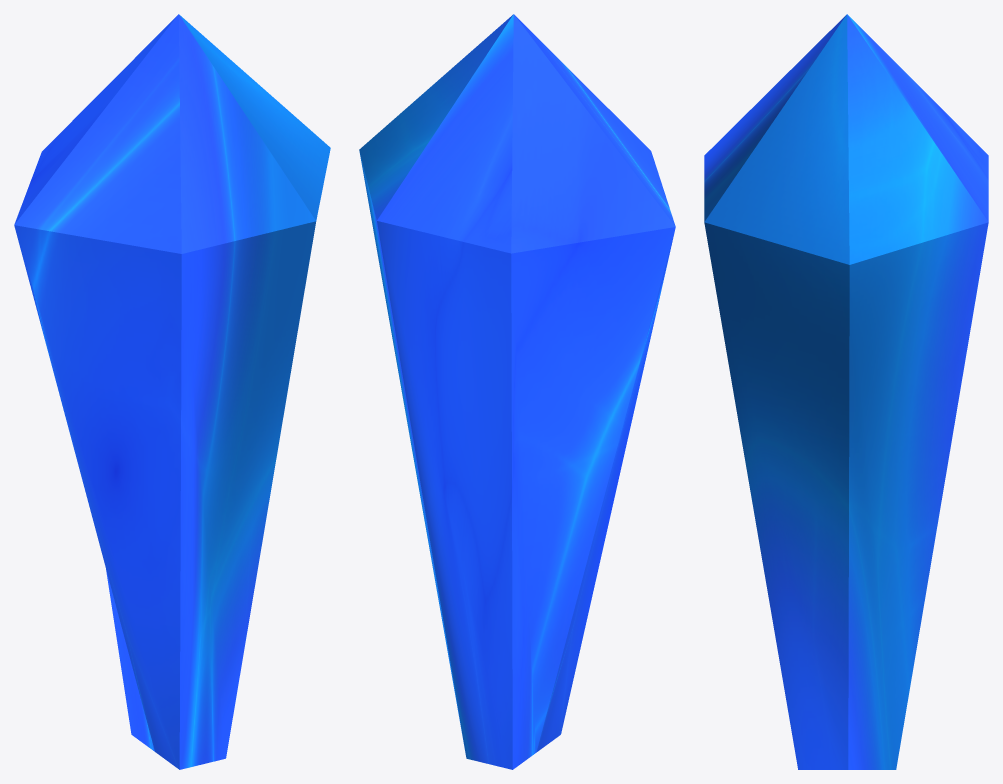
File: crystal.glb
3 renders of one model, left to right at view 1: azimuth 30°, elevation 25°; view 2: azimuth 150°, elevation 25°; view 3: azimuth 270°, elevation 25°, orthographic.
Visible parts, largest first — view 1: Cube; view 2: Cube; view 3: Cube.
Boxes of the visible parts, left/top/right/bottom form: Cube: left=14, top=14, right=330, bottom=769; Cube: left=359, top=14, right=675, bottom=769; Cube: left=704, top=14, right=988, bottom=769.
Size of the model in its own units: 2.61 by 5.78 by 2.
1 material, 1 textured.
